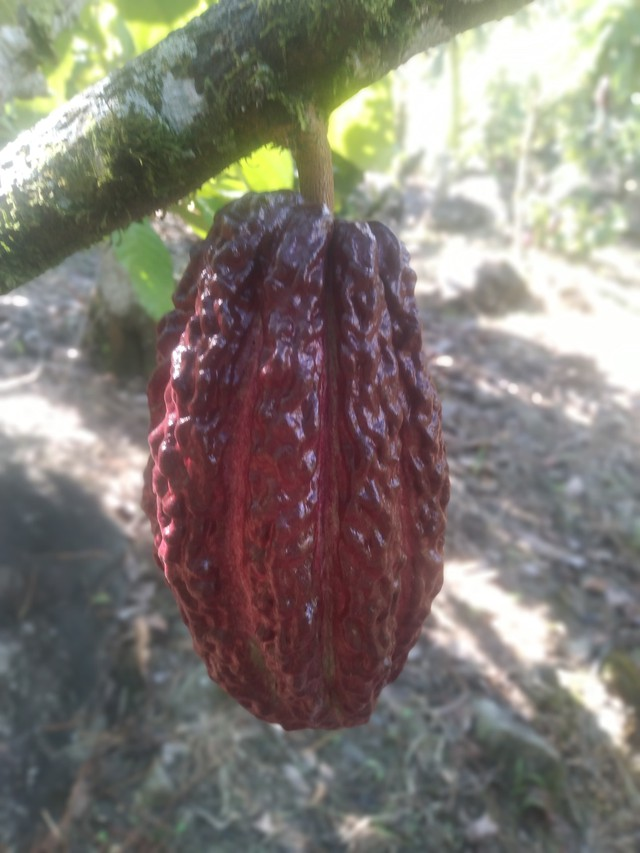Health: (123, 171, 472, 739)
